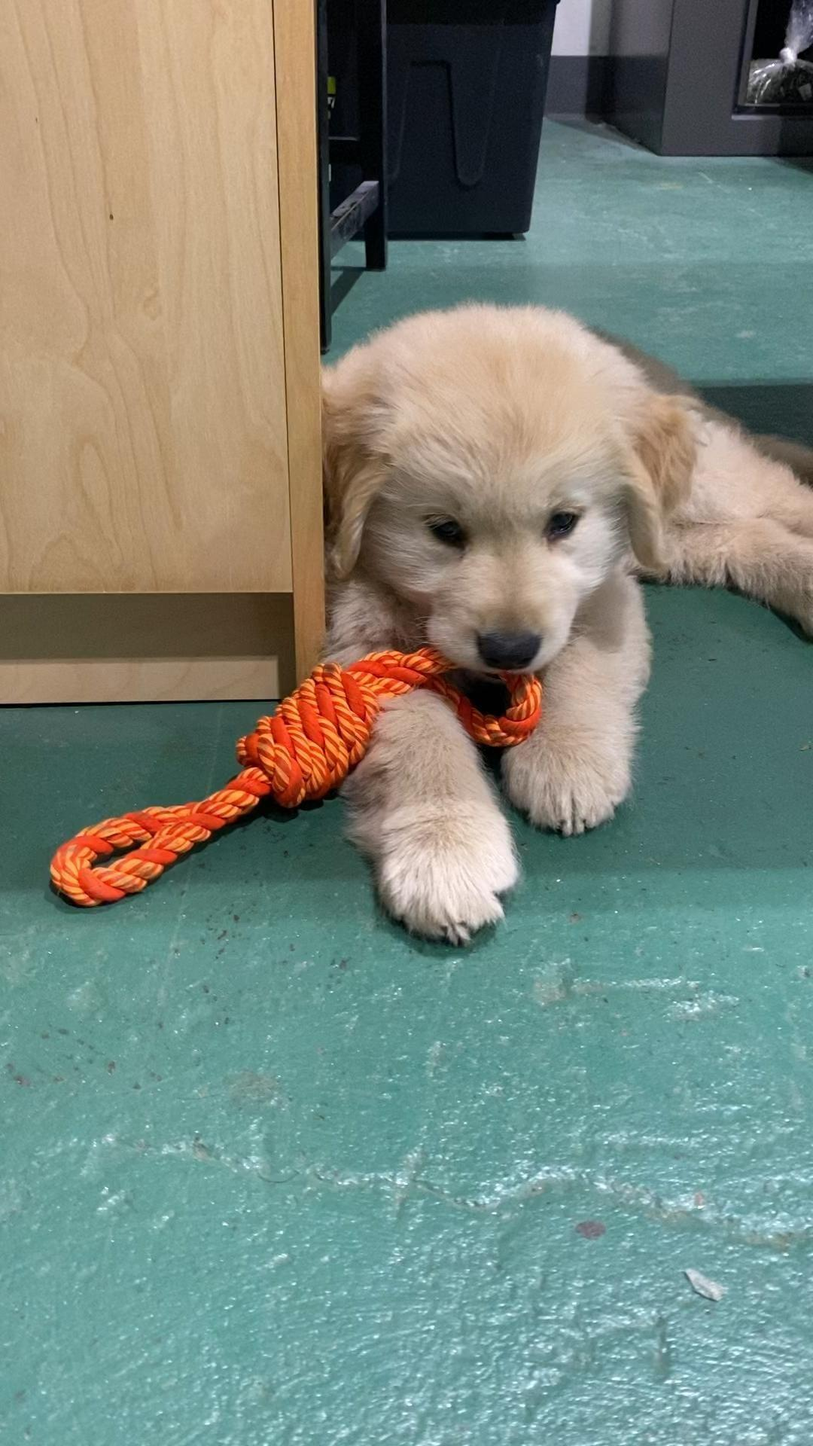puppy-dog: (319, 300, 813, 946)
